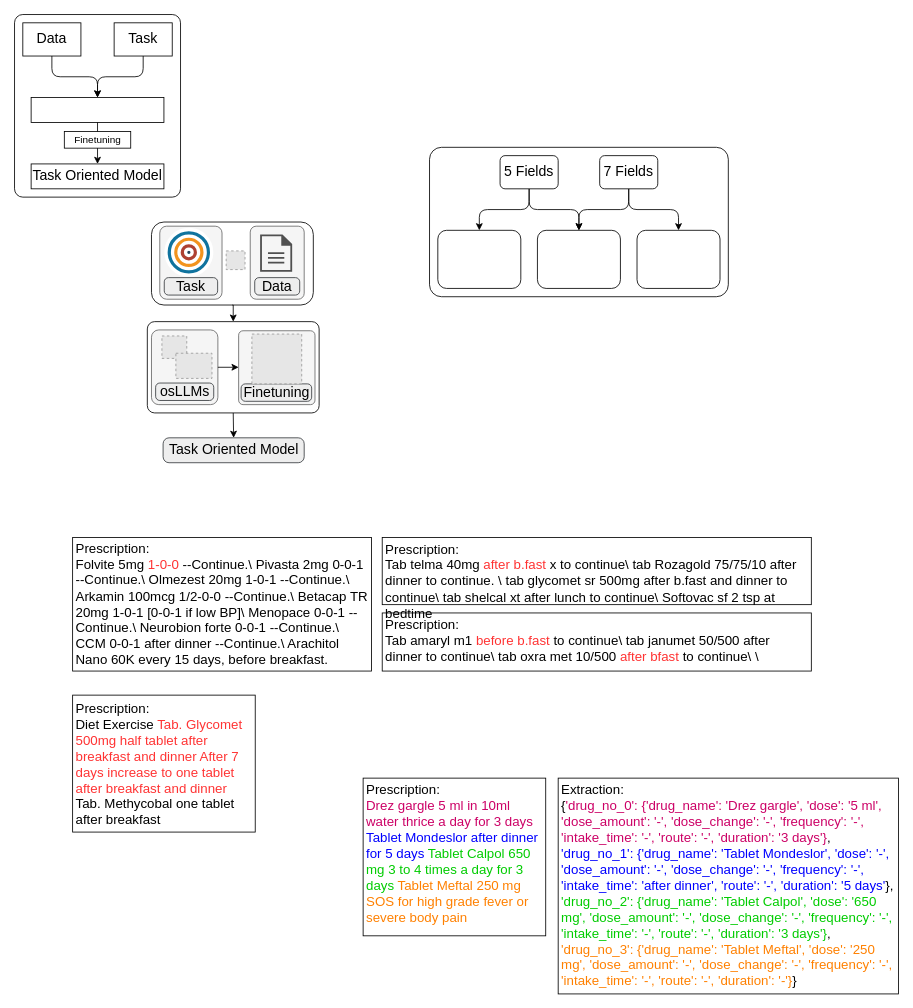
Some shapes in this 913 by 1008 pixel diagram are drawn without their labels. Grey dashed boxes stand in for pictures. The shapes that lost their labels are listed below. From the top down, each one's centre as x and y in pixels, then its label:
At (x=97, y=109): "Pre-Trained osLLM".
At (x=479, y=258): "SD-1 - Train: 100 - Test: 58".
At (x=578, y=258): "SD-2 - Train: 100 - Test: 20".
At (x=678, y=258): "SD-3 - Train: 500 - Test: 71".
